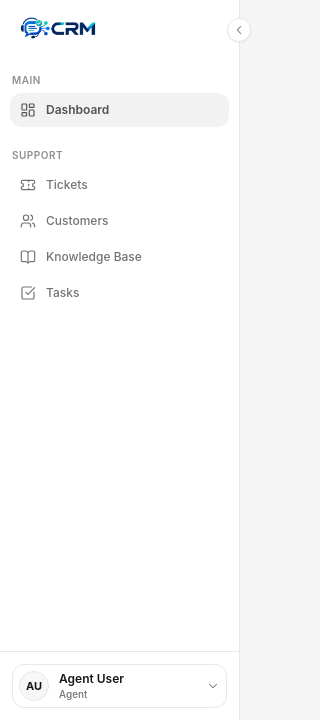
Test case: Sidebar component › shows My Profile for AGENT and navigates to the shared internal route
Click the button "AU Agent User agent" at (120, 686), box [12,664,227,708]
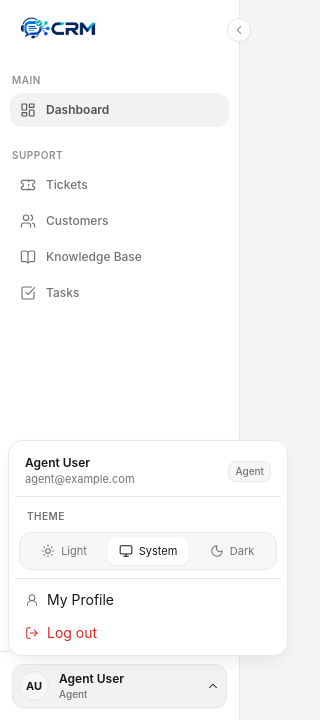
Click the menu item "My Profile" at (81, 600), box [15,583,281,616]
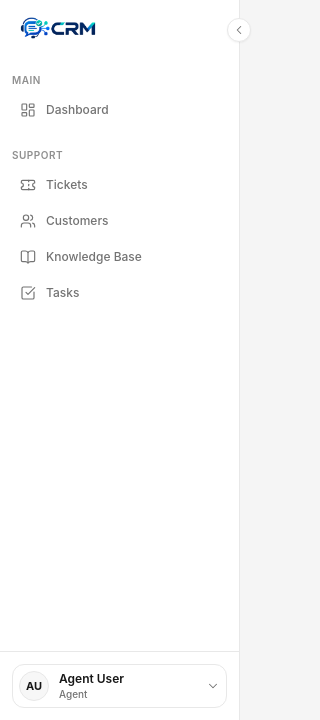
Check: the menu item "My Profile" is gone
